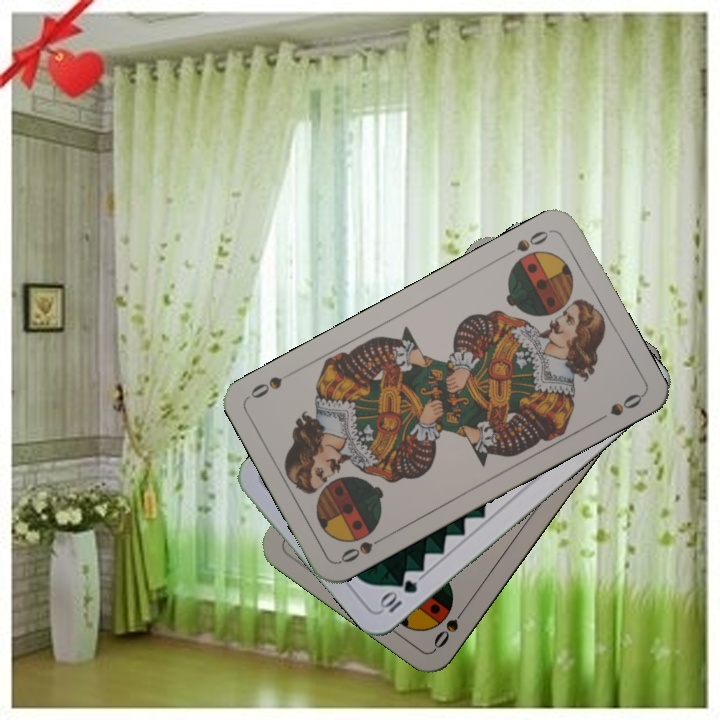G10: (375, 576, 420, 616)
SO: (429, 600, 471, 651), (336, 531, 390, 566), (499, 226, 554, 260)
